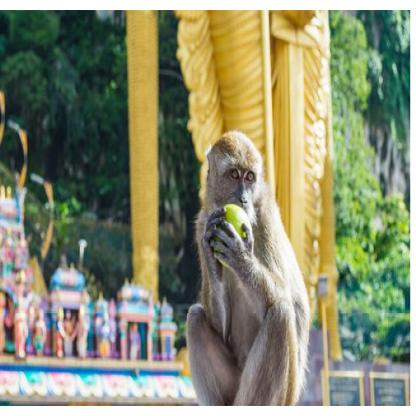monkey: (183, 127, 310, 412)
